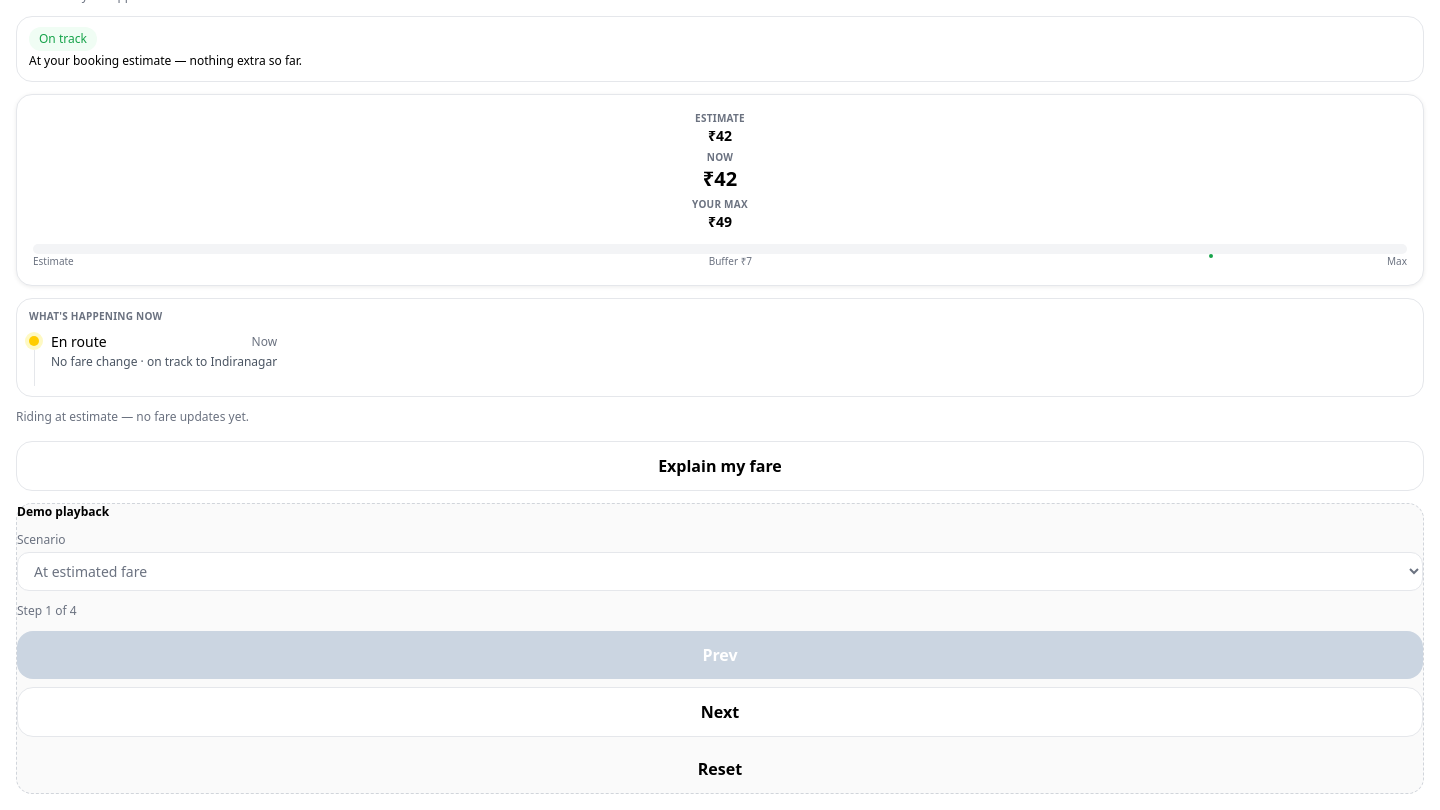
Scenario: live ride scenario integration › renders buffer_zone scenario correctly at final step
(page scrolled)
Expected: the element with test id "fare-trust-indicator" is shown, [16,16,1424,82]
Select "Entered buffer zone" in the dropdown with test id "playback-scenario-select" at (720, 571), box [17,552,1423,591]
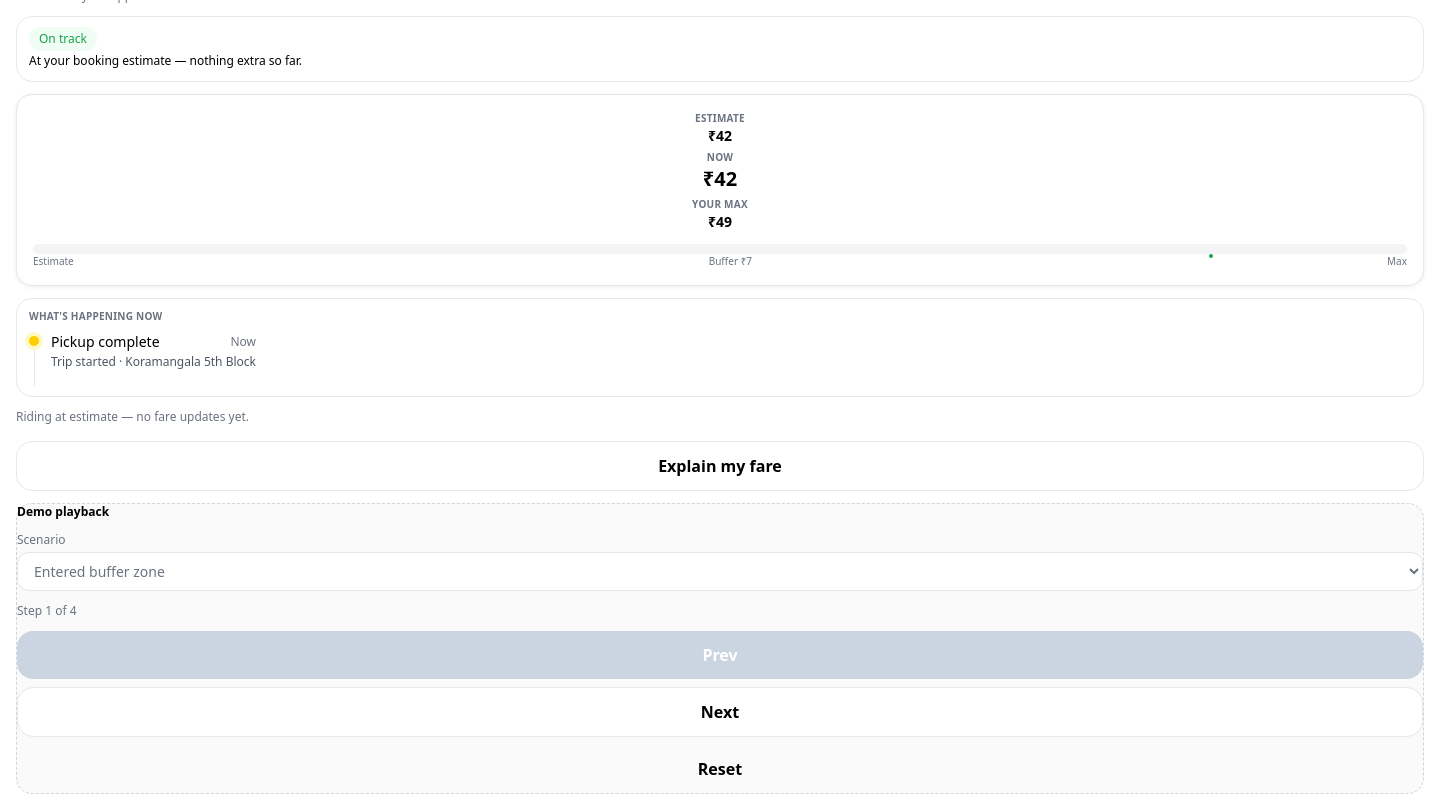
Click the button "Next" at (720, 712), box [17,687,1423,737]
(page scrolled)
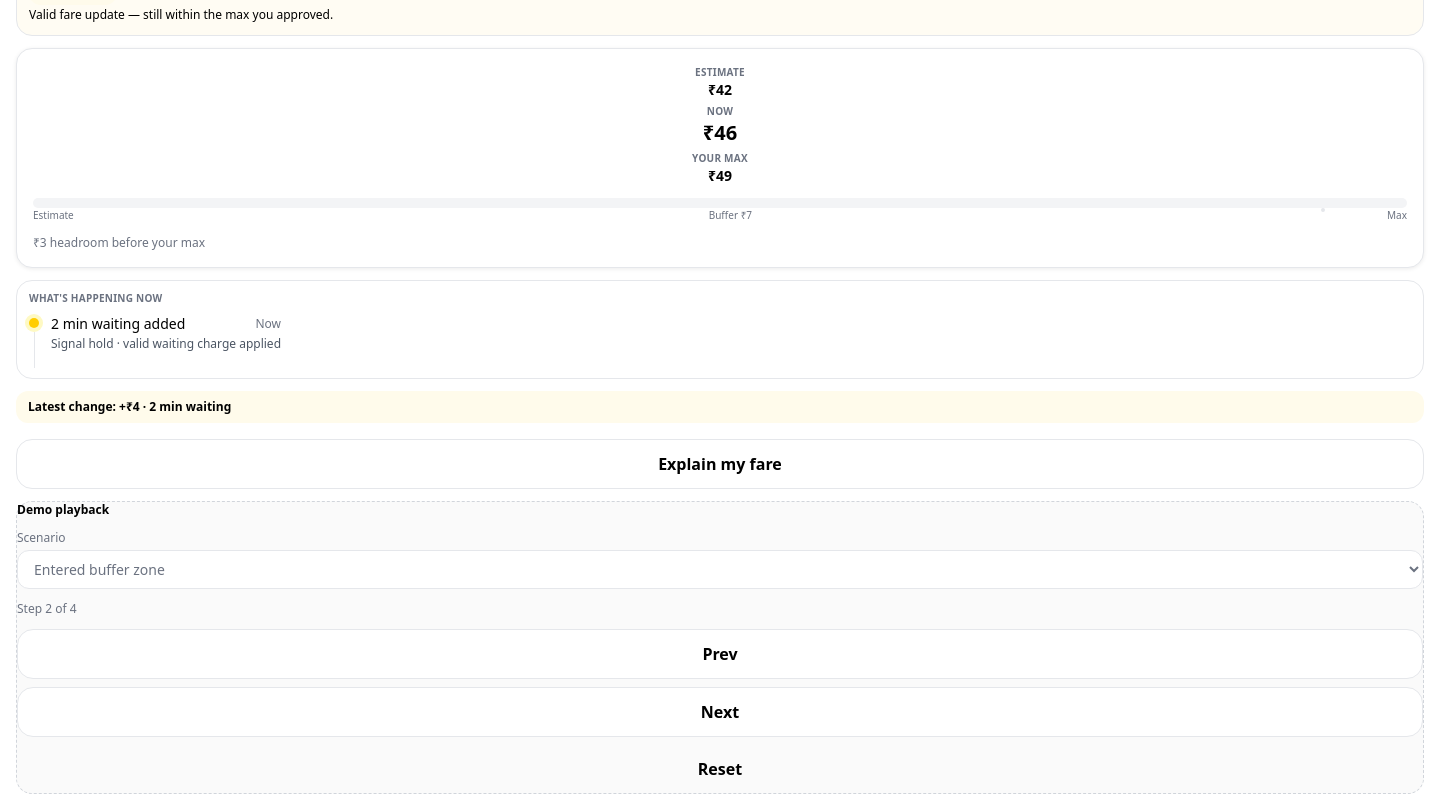
Click the button "Next" at (720, 712), box [17,687,1423,737]
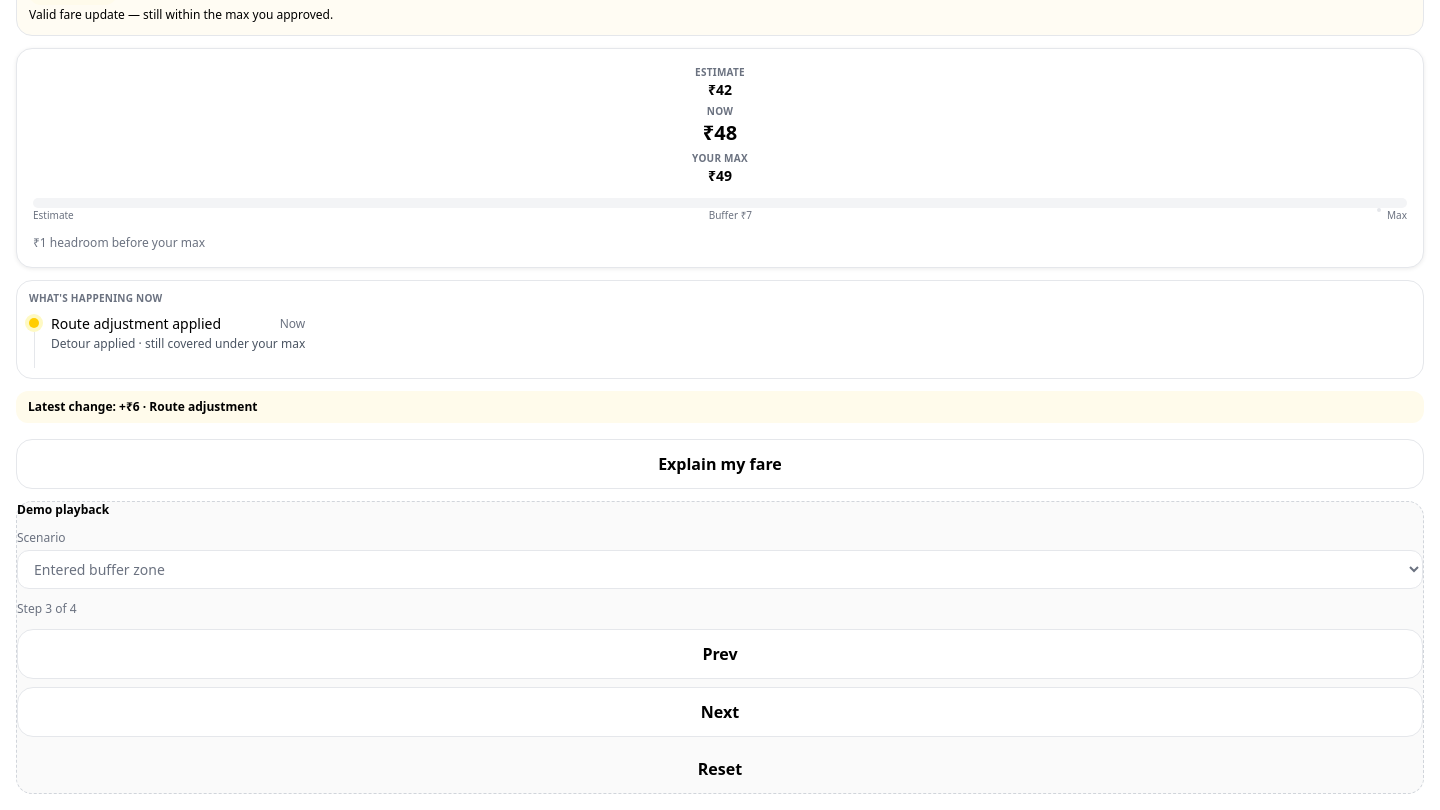
Expected: the element with test id "fare-trust-indicator" shows "Valid fare update", [29,6,333,23]
Expected: the element with test id "fare-meter-current" shows "₹48", [703,119,737,146]
Expected: the element with test id "live-ride-event-timeline" shows "Route adjustment applied", [51,314,221,333]
